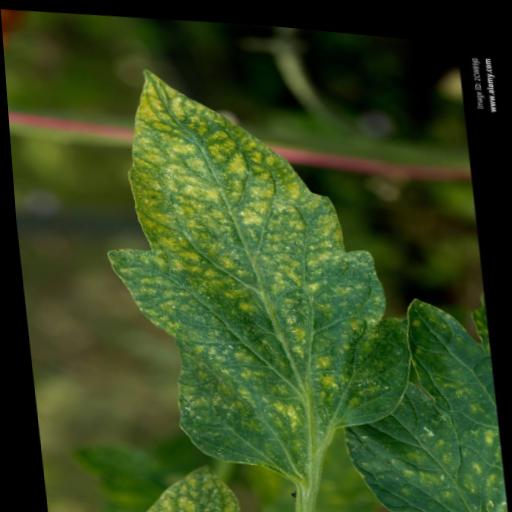Spider Mites: (75, 52, 419, 490)
